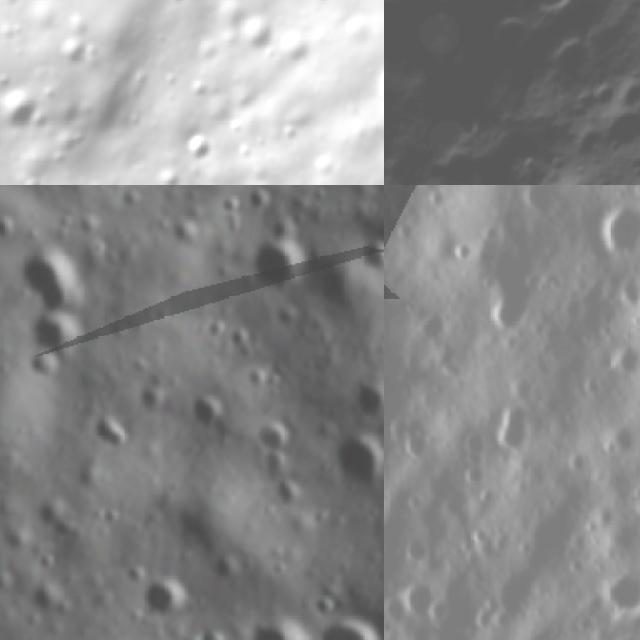crater: (384, 189, 489, 640), (439, 206, 574, 355), (479, 390, 557, 476), (387, 560, 465, 639), (537, 29, 611, 103), (585, 552, 640, 628), (589, 188, 640, 267), (591, 90, 640, 167), (24, 256, 86, 315), (31, 312, 88, 374), (0, 72, 48, 143), (227, 0, 281, 59), (336, 431, 384, 497), (252, 242, 308, 295), (595, 409, 640, 469), (50, 30, 100, 83), (88, 408, 135, 460), (602, 326, 640, 388), (146, 578, 194, 622), (451, 451, 498, 495), (584, 497, 626, 542), (184, 392, 225, 436), (519, 0, 588, 26), (537, 161, 611, 185), (249, 421, 305, 452), (181, 125, 221, 167), (559, 439, 597, 482), (247, 619, 316, 640), (384, 625, 474, 640), (359, 238, 384, 283), (359, 379, 384, 423), (323, 622, 384, 640), (0, 210, 22, 248), (200, 632, 239, 640)
